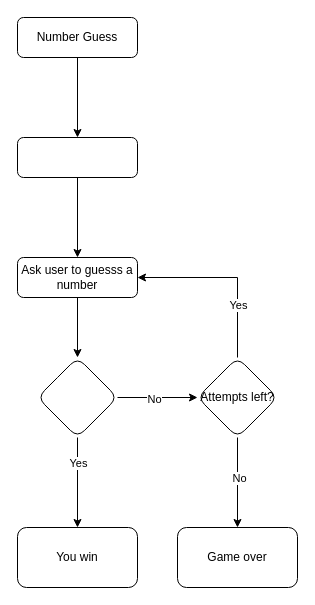
Image size: 315x605. Some labels were removed from this diagram. Here are the shapes that lost their labels. From the top down, the centre of each, then its label:
At (x=77, y=157): "Generate a Number".
At (x=77, y=397): "Is number correct".
